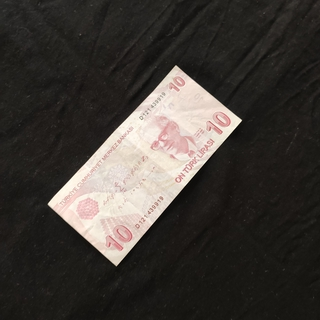10TLBack: (45, 62, 243, 267)
